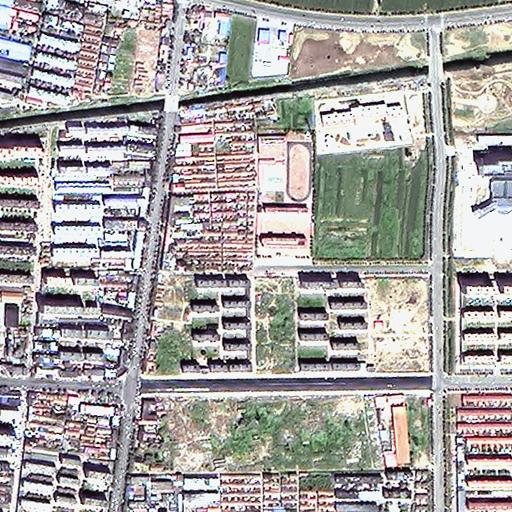school: (255, 133, 314, 260)
